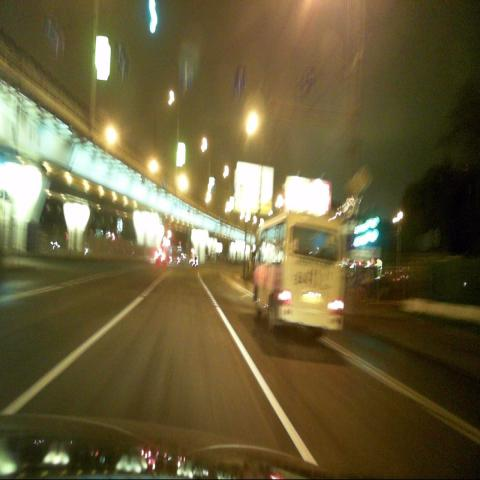2_1: (357, 166, 371, 191)
5_15_2: (234, 64, 248, 93), (178, 56, 192, 83), (112, 40, 126, 66), (43, 14, 57, 39)
